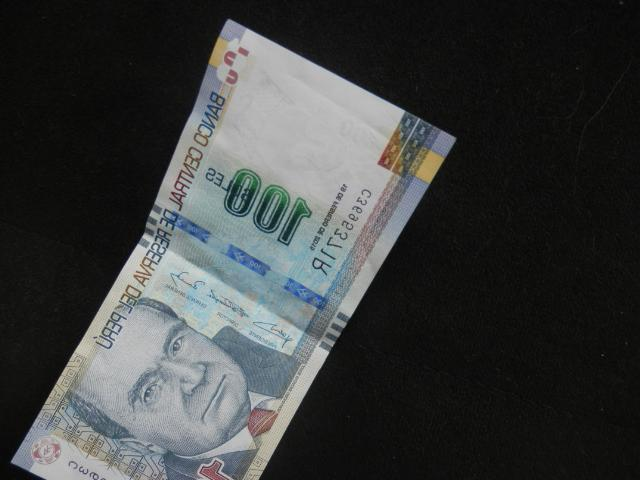B100: (11, 19, 458, 480)
